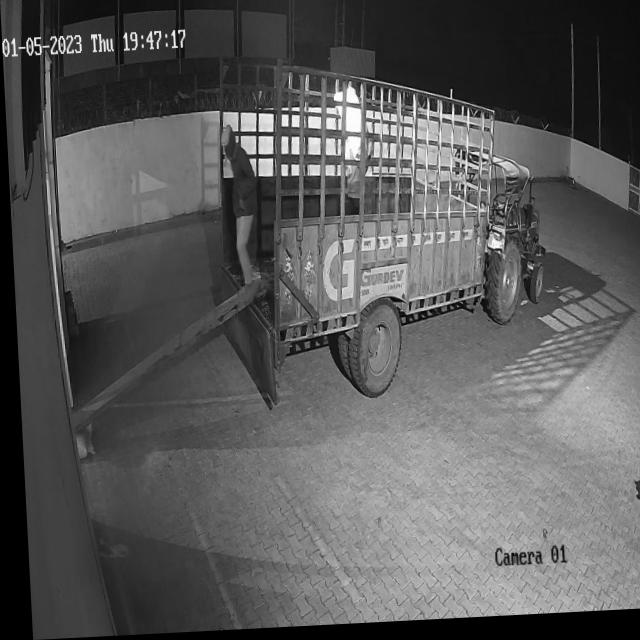sack: (331, 88, 368, 168)
